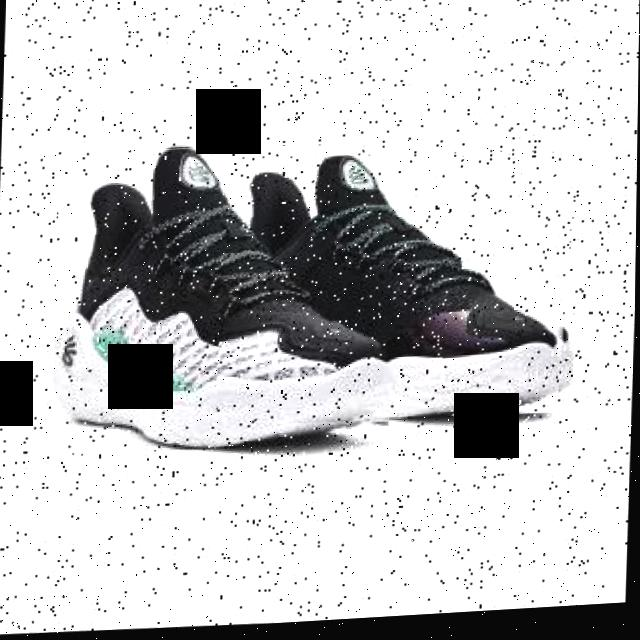shoe: (51, 136, 406, 462), (216, 144, 581, 435)
